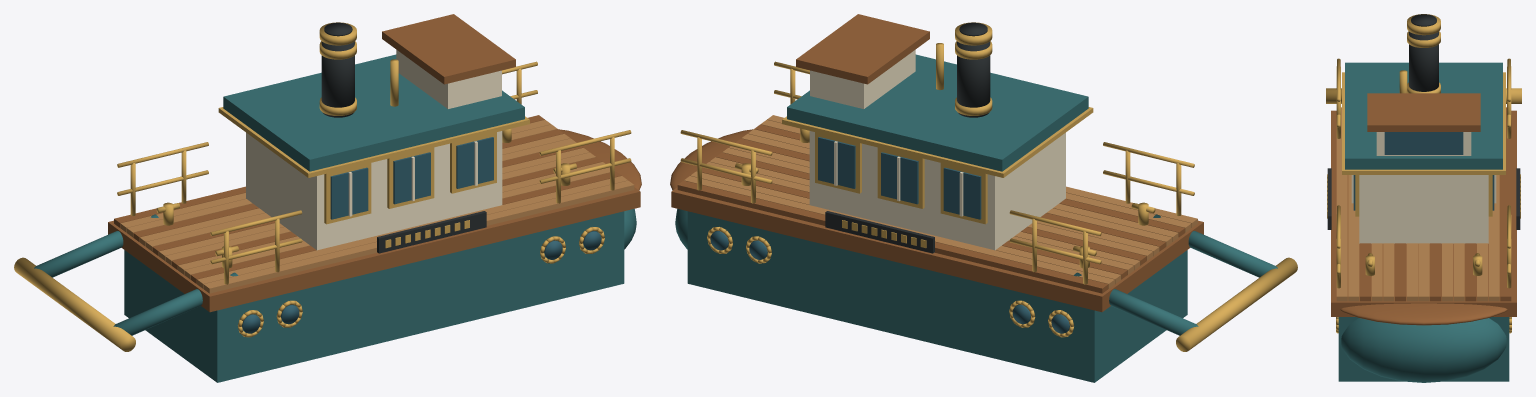
Rendered from paddleboat.glb.
3 renders of one model, left to right at view 1: azimuth 30°, elevation 25°; view 2: azimuth 150°, elevation 25°; view 3: azimuth 270°, elevation 25°, orthographic. The views are drawn at different scales.
Visible parts, largest first — view 1: Hull / painted central planking, Cabin roof, Cabin, Teak rubbing strake, Pilot roof, Individual deck plank.014, Pilot house, Wheel axle, Individual deck plank.013, Roof brass edge, Smokestack, Nameplate.001 (+22 smaller); view 2: Hull / painted central planking, Cabin roof, Cabin, Teak rubbing strake, Pilot roof, Individual deck plank, Pilot house, Wheel axle, Individual deck plank.001, Roof brass edge, Smokestack, Nameplate (+22 smaller); view 3: Cabin roof, Cabin, Rounded bow, Teak rubbing strake, Pilot roof, Bow rubbing strake, Hull / painted central planking, Pilot forward glass, Roof brass edge, Smokestack, Individual deck plank, Individual deck plank.014 (+25 smaller).
Boxes of the visible parts, x1,y1,x2,y2 form: Hull / painted central planking: (124,211,624,382); Cabin roof: (223,54,524,171); Cabin: (246,131,502,250); Teak rubbing strake: (108,187,640,312); Pilot roof: (382,14,515,84); Individual deck plank.014: (203,180,634,293); Pilot house: (396,50,501,108); Wheel axle: (14,257,135,351); Individual deck plank.013: (197,176,627,288); Roof brass edge: (218,107,529,177); Smokestack: (321,41,354,117); Nameplate.001: (377,211,486,253); Hull / painted central planking: (687,211,1187,382); Cabin roof: (787,54,1088,171); Cabin: (809,131,1065,250); Teak rubbing strake: (671,187,1203,312); Pilot roof: (796,14,929,84); Individual deck plank: (677,180,1108,293); Pilot house: (810,50,915,108); Wheel axle: (1176,257,1297,351); Individual deck plank.001: (684,176,1114,288); Roof brass edge: (782,107,1093,177); Smokestack: (957,41,990,117); Nameplate: (825,211,934,253); Cabin roof: (1345,62,1502,169); Cabin: (1359,175,1488,243); Rounded bow: (1341,318,1506,382); Teak rubbing strake: (1331,110,1516,316); Pilot roof: (1367,93,1480,131); Bow rubbing strake: (1340,303,1507,325); Hull / painted central planking: (1338,317,1509,381); Pilot forward glass: (1384,132,1463,154); Roof brass edge: (1342,72,1505,174); Smokestack: (1409,31,1438,91); Individual deck plank: (1500,107,1511,301); Individual deck plank.014: (1336,107,1347,301).
Size of the model in its own units: 1.85 by 0.892 by 0.62.
